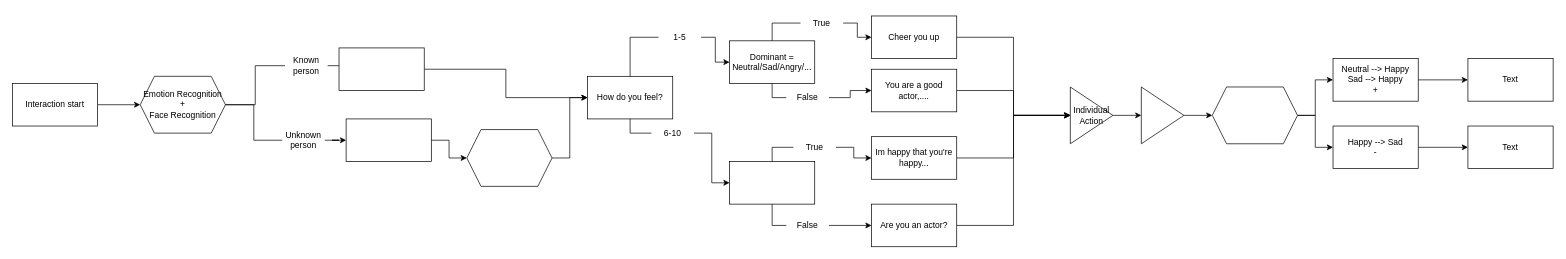
The diagram is 1566 pixels wide and 259 high, and some of its shapes have lost their labels. Here are the shapes that lost their labels. From the top down, the centre of each, then its label:
At point 381,69: "Hi, long time no see...".
At point 1162,115: "Take picture".
At point 1255,115: "Emotion Recognition".
At point 388,140: "Name".
At point 509,157: "Add Name".
At point 772,182: "Happy/Surprised".
